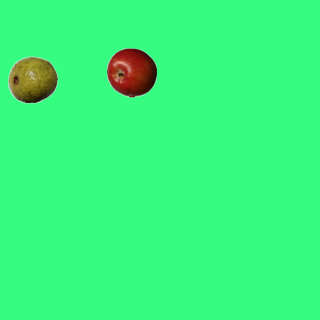Apple Braeburn: (106, 47, 156, 97)
Guava: (7, 54, 57, 104)
